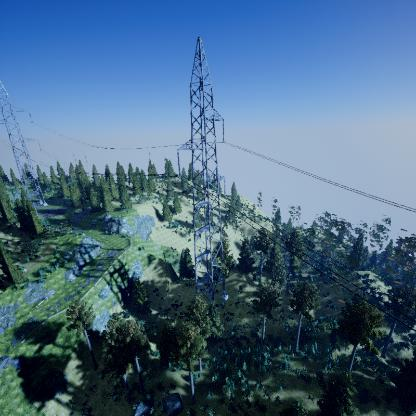tower: (172, 33, 231, 304), (0, 77, 51, 212)
